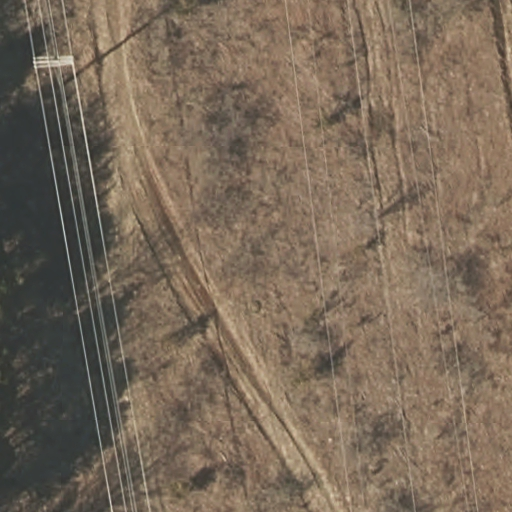DT: (29, 50, 78, 76)
